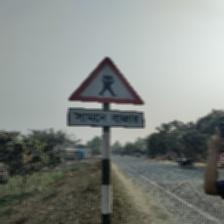Market-in-front: (69, 57, 146, 135)
